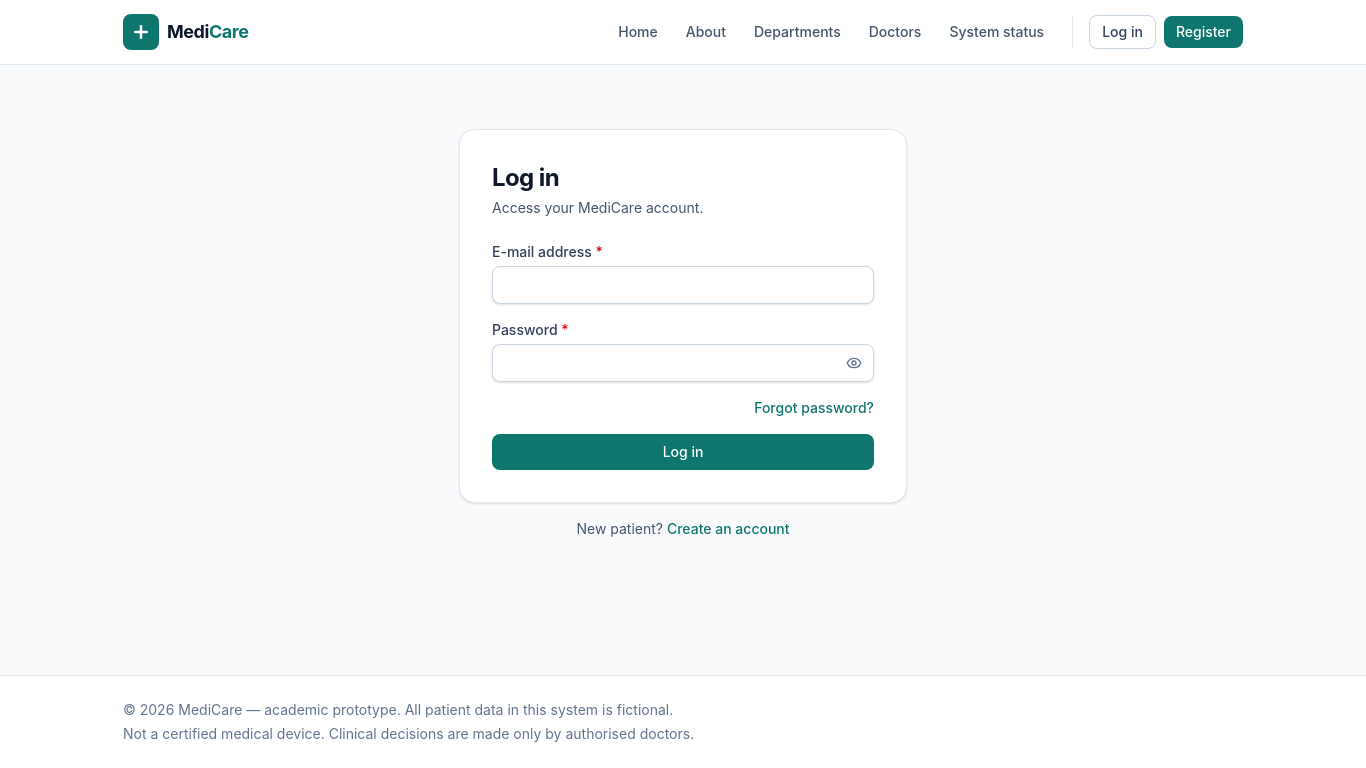
Test: Login page › shows the server error for invalid credentials
The image size is (1366, 768).
In the field labelled "E-mail address *": (683, 285) [492,266,874,304], type "a@test.example"
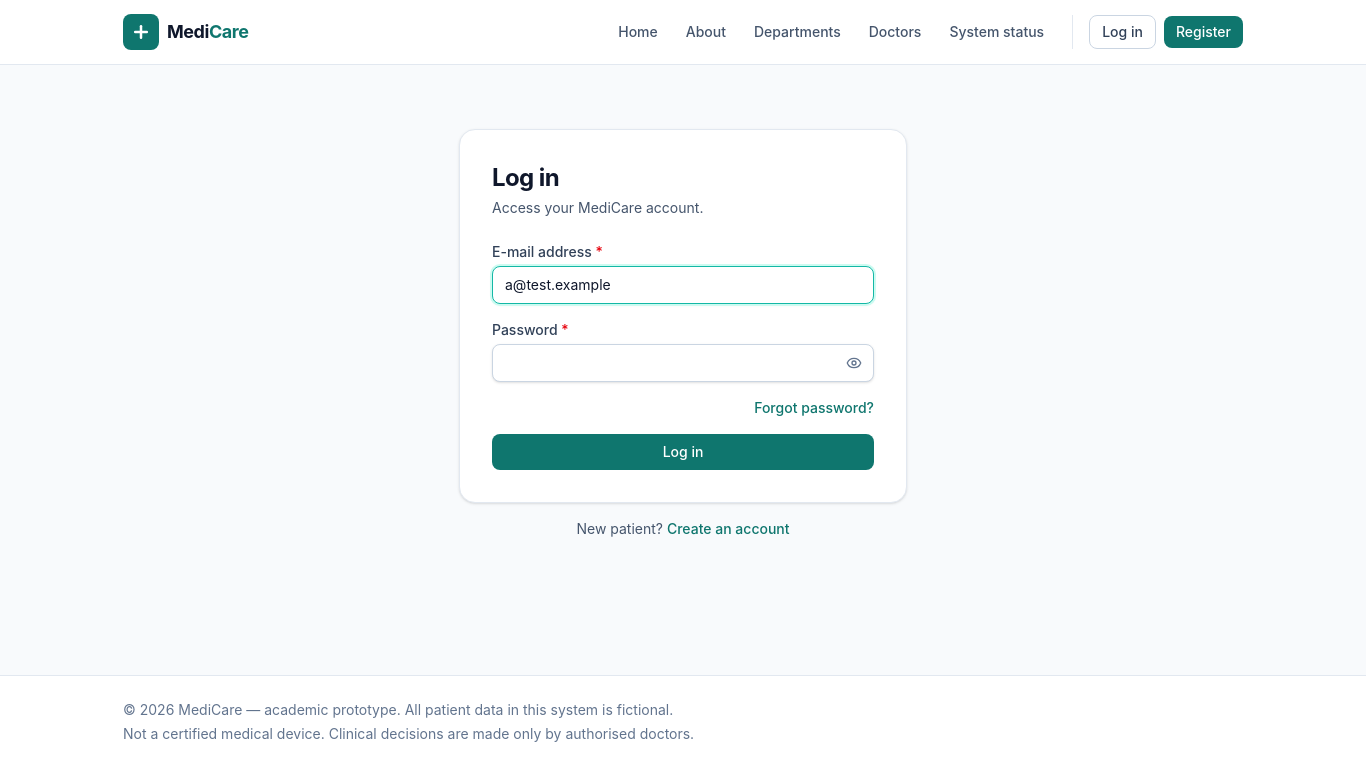
In the password field labelled "Password *": (683, 363) [492,344,874,382], type "Wrong@123"
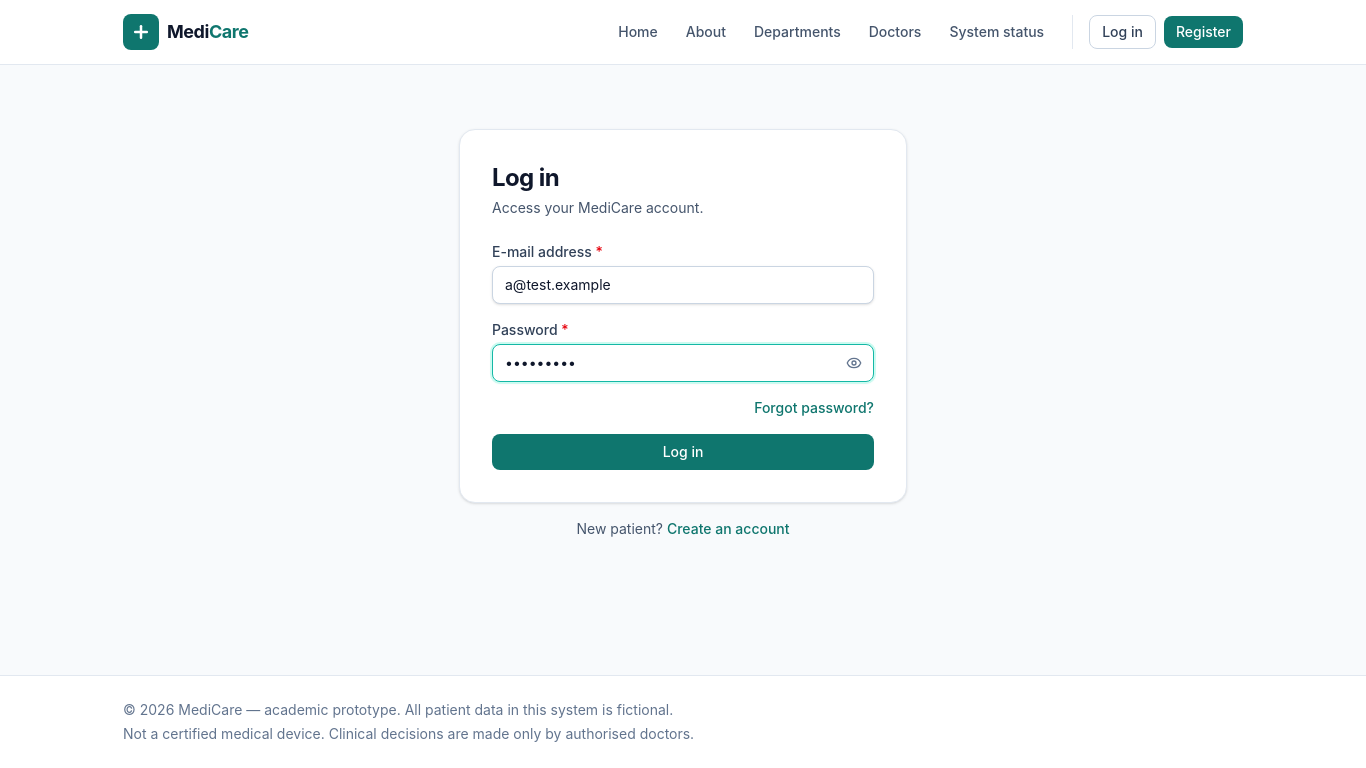
Click the button "Log in": (683, 452) [492,434,874,470]
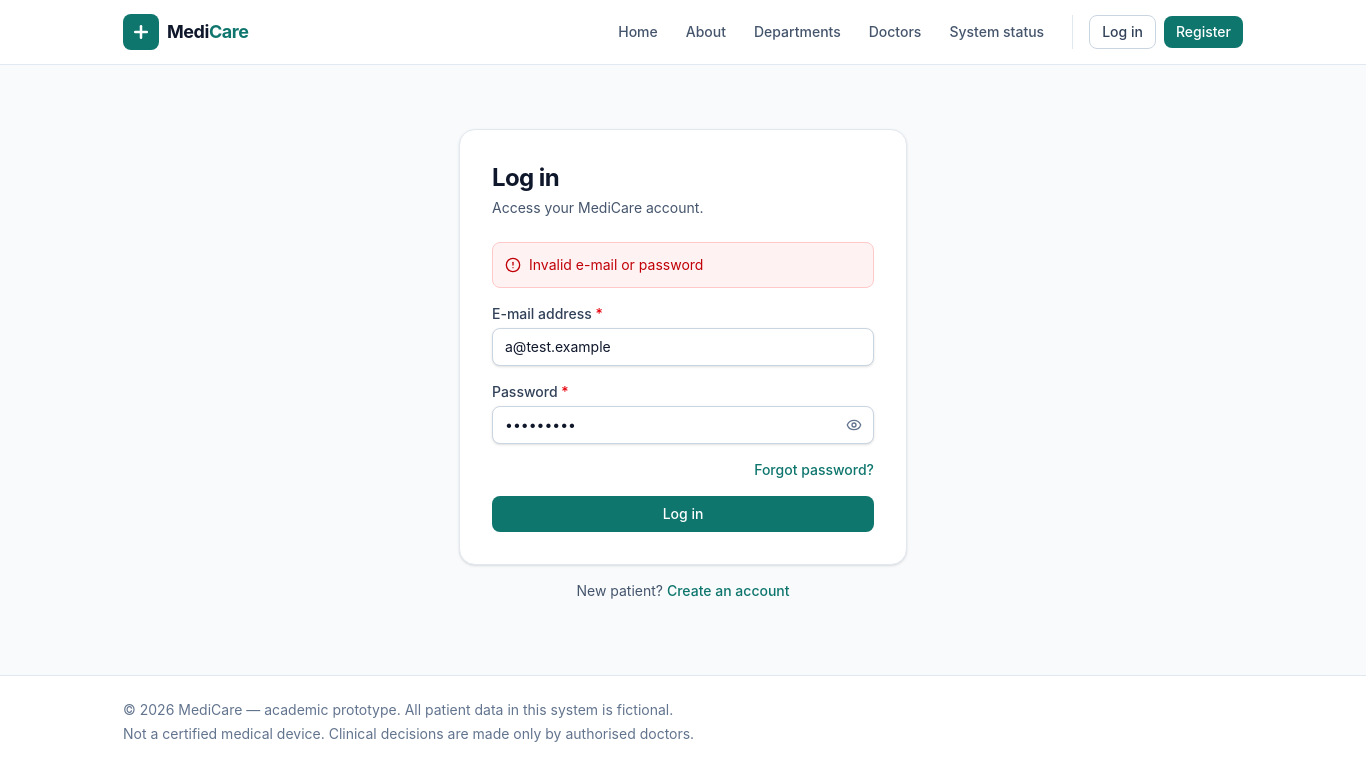
Expected: the message reads "Invalid e-mail or password", [529,256,703,273]
